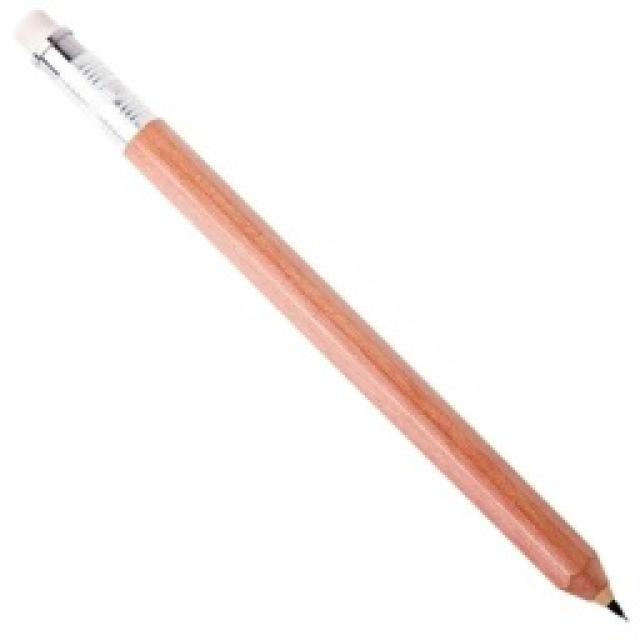pencil: (10, 0, 630, 625)
